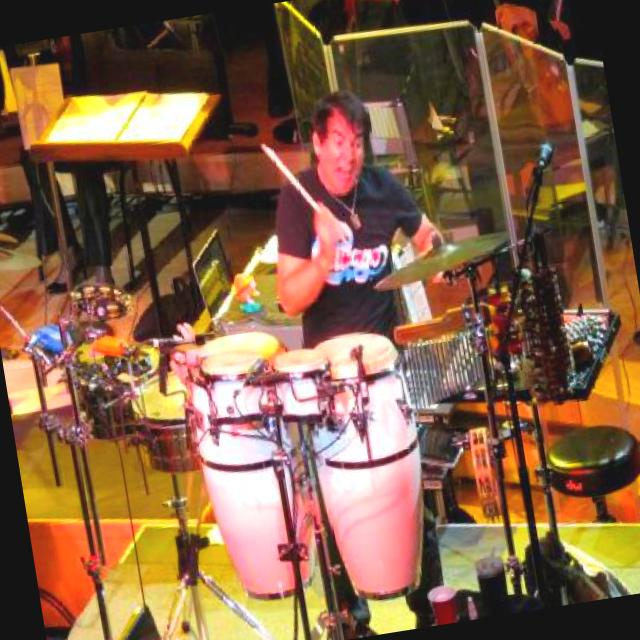Person: (248, 70, 512, 640), (414, 0, 636, 309), (0, 25, 186, 343)
